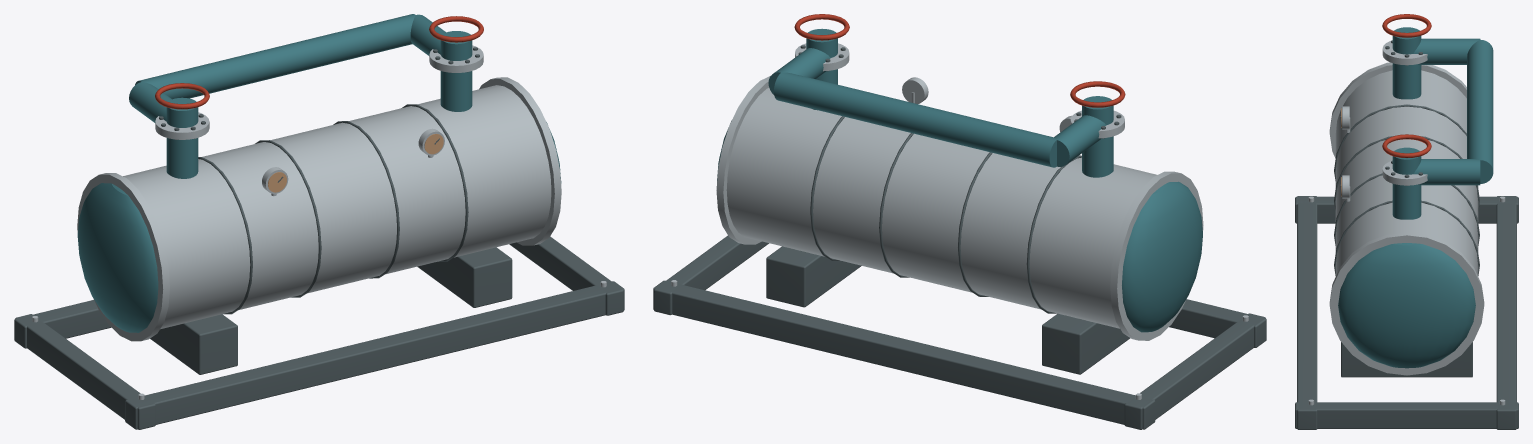
File: heat_exchanger.glb
The picture shows the model from 3 angles, left to right: view 1: azimuth 30°, elevation 25°; view 2: azimuth 150°, elevation 25°; view 3: azimuth 270°, elevation 25°; orthographic projection. The views are drawn at different scales.
Visible parts, largest first — view 1: heat_exchanger_SPOT_machined_steel, heat_exchanger_SPOT_cast_iron, heat_exchanger_SPOT_petrol_enamel, heat_exchanger_SPOT_valve_red, heat_exchanger_SPOT_ceramic; view 2: heat_exchanger_SPOT_machined_steel, heat_exchanger_SPOT_cast_iron, heat_exchanger_SPOT_petrol_enamel, heat_exchanger_SPOT_valve_red; view 3: heat_exchanger_SPOT_machined_steel, heat_exchanger_SPOT_petrol_enamel, heat_exchanger_SPOT_cast_iron, heat_exchanger_SPOT_valve_red.
Part boxes in pixels (x1,y1,x2,y2): heat_exchanger_SPOT_machined_steel: [32, 45, 606, 399]; heat_exchanger_SPOT_cast_iron: [14, 47, 624, 429]; heat_exchanger_SPOT_petrol_enamel: [77, 14, 561, 332]; heat_exchanger_SPOT_valve_red: [155, 16, 483, 109]; heat_exchanger_SPOT_ceramic: [268, 133, 443, 192]; heat_exchanger_SPOT_machined_steel: [671, 43, 1248, 399]; heat_exchanger_SPOT_cast_iron: [653, 45, 1266, 429]; heat_exchanger_SPOT_petrol_enamel: [717, 28, 1202, 332]; heat_exchanger_SPOT_valve_red: [794, 14, 1125, 107]; heat_exchanger_SPOT_machined_steel: [1308, 41, 1505, 405]; heat_exchanger_SPOT_petrol_enamel: [1338, 27, 1493, 368]; heat_exchanger_SPOT_cast_iron: [1295, 40, 1518, 429]; heat_exchanger_SPOT_valve_red: [1382, 14, 1431, 157].
Size of the model in its own units: 5 by 2.59 by 2.2.
